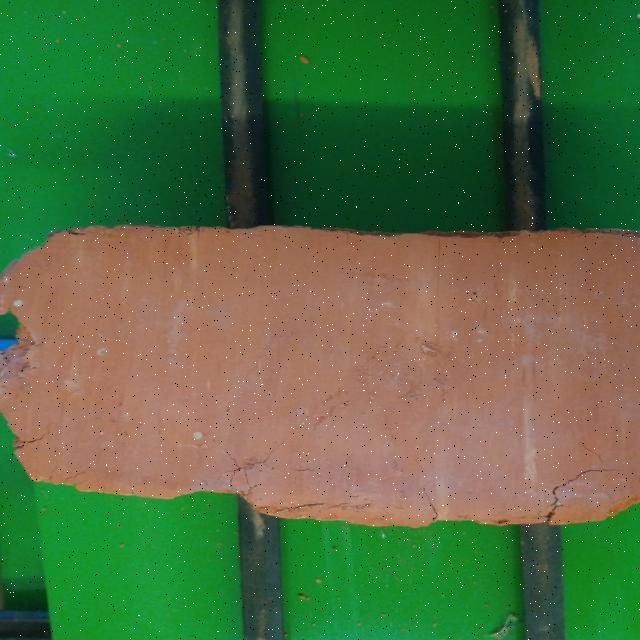bricks_ruin: (0, 225, 640, 526)
